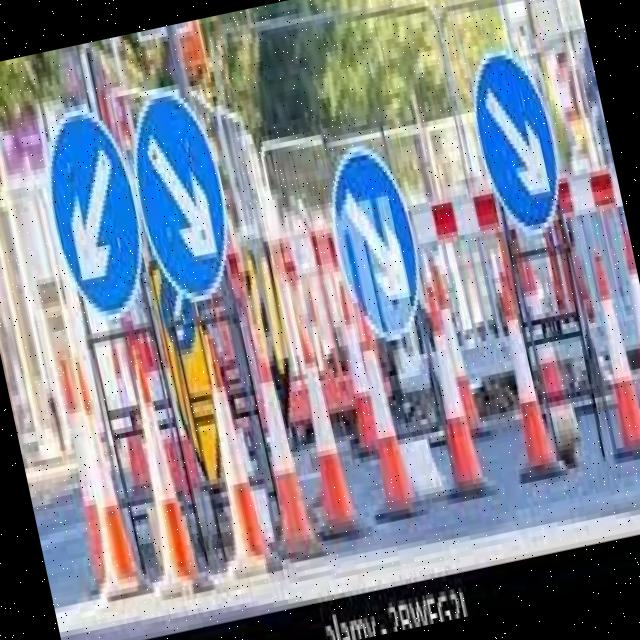compulsory_keep_right: (112, 70, 250, 316), (308, 129, 440, 356), (453, 31, 578, 244)
